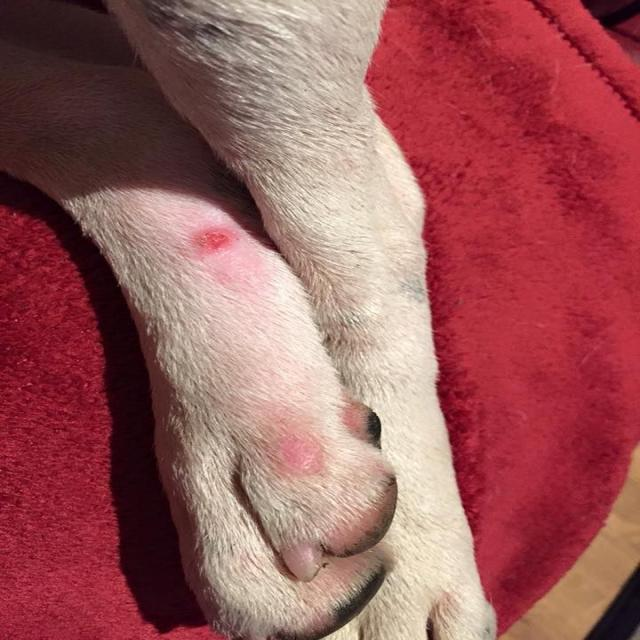fungal infection: (326, 482, 389, 554), (259, 412, 330, 474), (186, 220, 243, 264), (344, 398, 384, 441)
